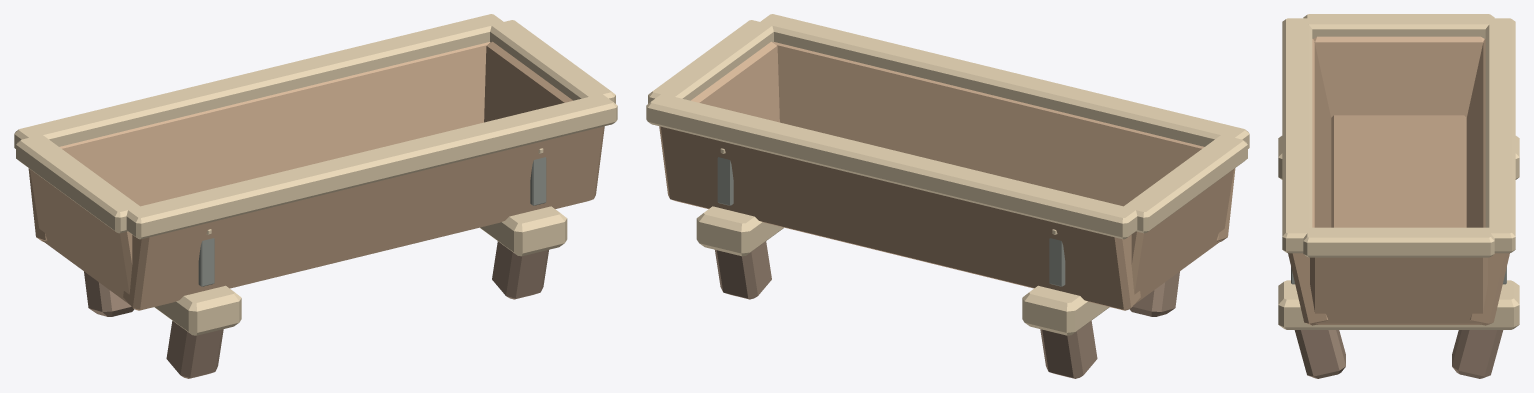
Rendered from crafted-cow-food-0.glb.
3 renders of one model, left to right at view 1: azimuth 30°, elevation 25°; view 2: azimuth 150°, elevation 25°; view 3: azimuth 270°, elevation 25°, orthographic. The views are drawn at different scales.
Visible parts, largest first — view 1: long-stave-1, long-stave, rim-long-1, rim-long, end-stave, rim-end, end-stave-1, rim-end-1, trestle-1, trestle, splayed-leg-3, splayed-leg-1 (+3 smaller); view 2: long-stave, long-stave-1, rim-long, rim-long-1, end-stave, rim-end, end-stave-1, rim-end-1, trestle-1, trestle, splayed-leg-2, splayed-leg (+3 smaller); view 3: inner-floor, end-stave, end-stave-1, rim-long-1, rim-long, rim-end-1, long-stave, long-stave-1, rim-end, trestle-1, splayed-leg-2, splayed-leg-3 (+1 smaller).
Boxes of the visible parts, box(x1,y1,x2,y2) form: long-stave-1: box(123, 126, 604, 310); long-stave: box(28, 42, 490, 241); rim-long-1: box(126, 94, 617, 239); rim-long: box(14, 14, 503, 148); end-stave: box(30, 169, 132, 304); rim-end: box(16, 135, 139, 233); end-stave-1: box(484, 41, 572, 122); rim-end-1: box(490, 20, 615, 103); trestle-1: box(480, 206, 567, 256); trestle: box(154, 285, 241, 335); splayed-leg-3: box(492, 241, 548, 299); splayed-leg-1: box(166, 321, 223, 378); long-stave: box(659, 126, 1140, 310); long-stave-1: box(773, 42, 1235, 241); rim-long: box(646, 94, 1137, 239); rim-long-1: box(760, 14, 1249, 148); end-stave: box(1131, 169, 1233, 304); rim-end: box(1124, 135, 1247, 233); end-stave-1: box(691, 41, 779, 122); rim-end-1: box(648, 20, 773, 103); trestle-1: box(696, 206, 783, 256); trestle: box(1022, 285, 1109, 335); splayed-leg-2: box(715, 241, 771, 299); splayed-leg: box(1040, 321, 1097, 378); inner-floor: box(1331, 115, 1466, 227); end-stave: box(1313, 36, 1484, 117); end-stave-1: box(1310, 257, 1487, 324); rim-long-1: box(1282, 18, 1312, 253); rim-long: box(1485, 18, 1515, 253); rim-end-1: box(1303, 227, 1494, 257); long-stave: box(1466, 39, 1509, 325); long-stave-1: box(1288, 39, 1331, 325); rim-end: box(1303, 14, 1494, 38); trestle-1: box(1278, 280, 1519, 329); splayed-leg-2: box(1452, 330, 1503, 378); splayed-leg-3: box(1294, 330, 1345, 378).
Size of the model in its own units: 1.6 by 0.5736 by 0.72.
